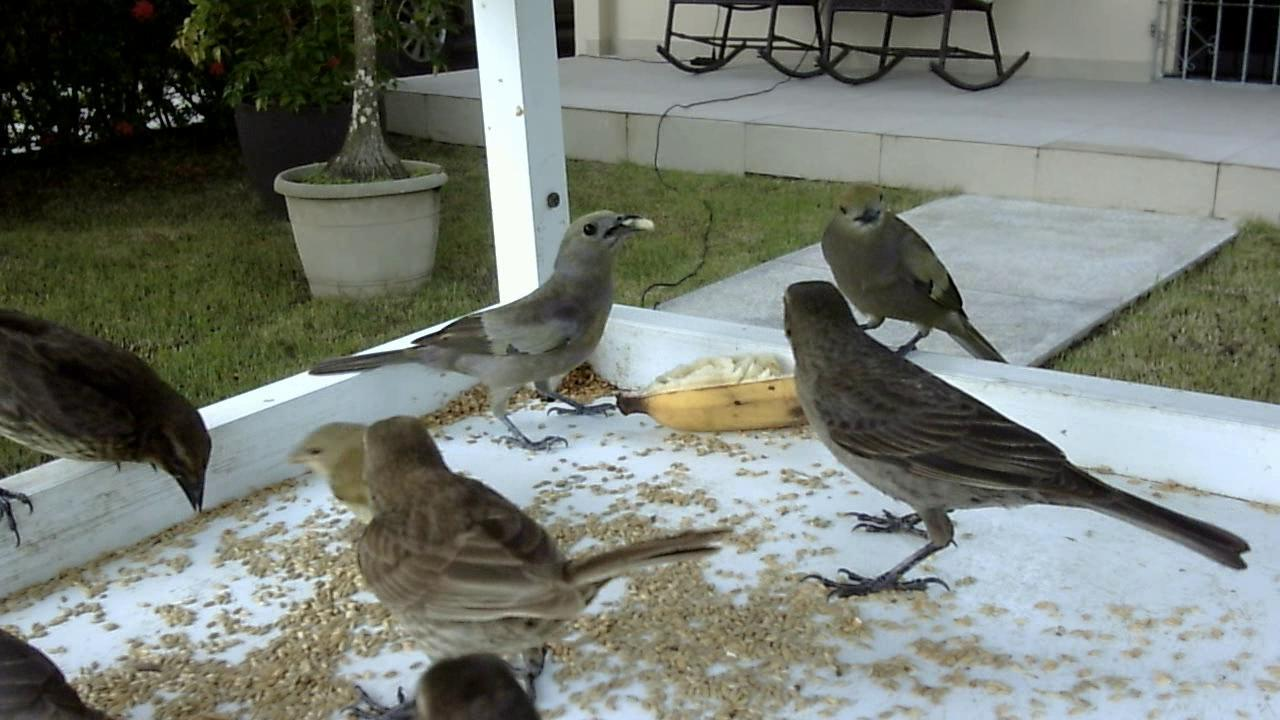canario_do_amazonas: (277, 414, 416, 527)
chupim: (766, 288, 1251, 598), (302, 391, 744, 700), (1, 307, 222, 549)
sanhaco_do_coqueiro: (307, 201, 662, 464), (807, 189, 1021, 370)
